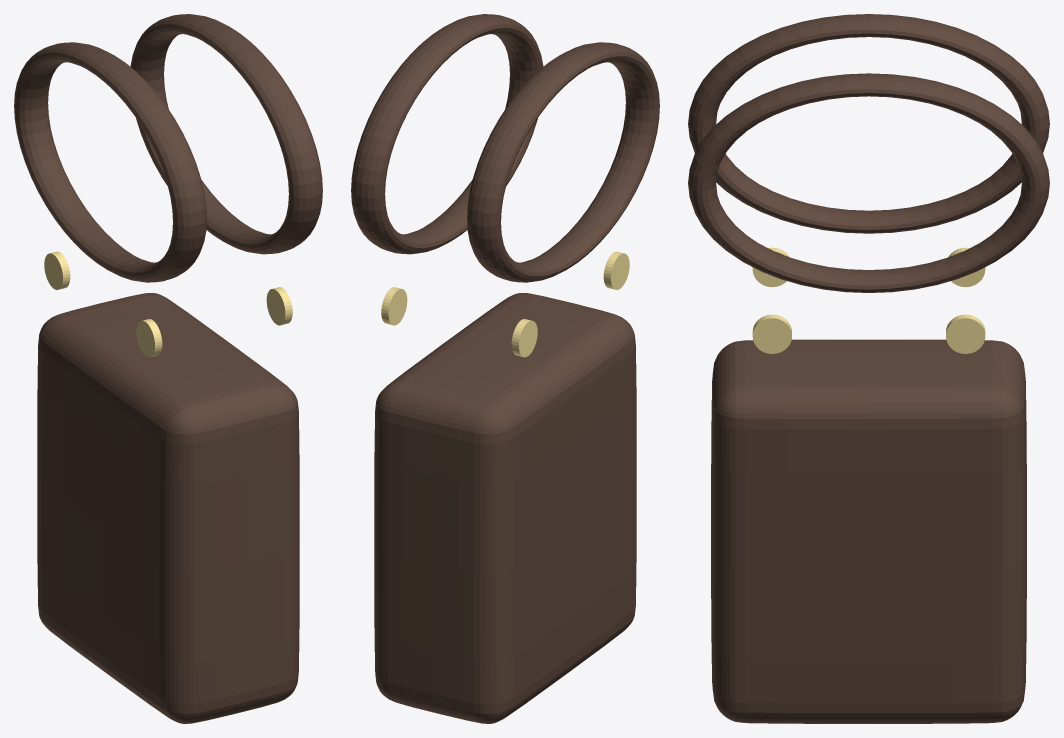
The model's file is luxury_bag.glb.
3 renders of one model, left to right at view 1: azimuth 30°, elevation 25°; view 2: azimuth 150°, elevation 25°; view 3: azimuth 270°, elevation 25°, orthographic. The views are drawn at different scales.
Parts seen in each view (by area): view 1: Bag_Body, Handle_Front, Handle_Back, Gold_Hardware_0.18_-0.22, Gold_Hardware_-0.18_-0.22, Gold_Hardware_-0.18_0.22; view 2: Bag_Body, Handle_Front, Handle_Back, Gold_Hardware_0.18_0.22, Gold_Hardware_-0.18_0.22, Gold_Hardware_-0.18_-0.22; view 3: Bag_Body, Handle_Back, Handle_Front, Gold_Hardware_0.18_-0.22, Gold_Hardware_0.18_0.22.
Part boxes in pixels (x1=…): Bag_Body: x1=37, y1=293, x2=299, y2=723; Handle_Front: x1=14, y1=42, x2=206, y2=282; Handle_Back: x1=130, y1=14, x2=322, y2=254; Gold_Hardware_0.18_-0.22: x1=266, y1=287, x2=292, y2=325; Gold_Hardware_-0.18_-0.22: x1=136, y1=319, x2=162, y2=357; Gold_Hardware_-0.18_0.22: x1=44, y1=251, x2=70, y2=289; Bag_Body: x1=374, y1=293, x2=636, y2=723; Handle_Front: x1=467, y1=42, x2=659, y2=282; Handle_Back: x1=351, y1=14, x2=543, y2=254; Gold_Hardware_0.18_0.22: x1=381, y1=287, x2=407, y2=325; Gold_Hardware_-0.18_0.22: x1=511, y1=319, x2=537, y2=357; Gold_Hardware_-0.18_-0.22: x1=603, y1=251, x2=629, y2=289; Bag_Body: x1=711, y1=339, x2=1026, y2=723; Handle_Back: x1=688, y1=73, x2=1049, y2=292; Handle_Front: x1=688, y1=14, x2=1049, y2=233; Gold_Hardware_0.18_-0.22: x1=752, y1=314, x2=791, y2=353; Gold_Hardware_0.18_0.22: x1=946, y1=314, x2=985, y2=353.
Size of the model in its own units: 0.4064 by 1.64 by 0.824.
